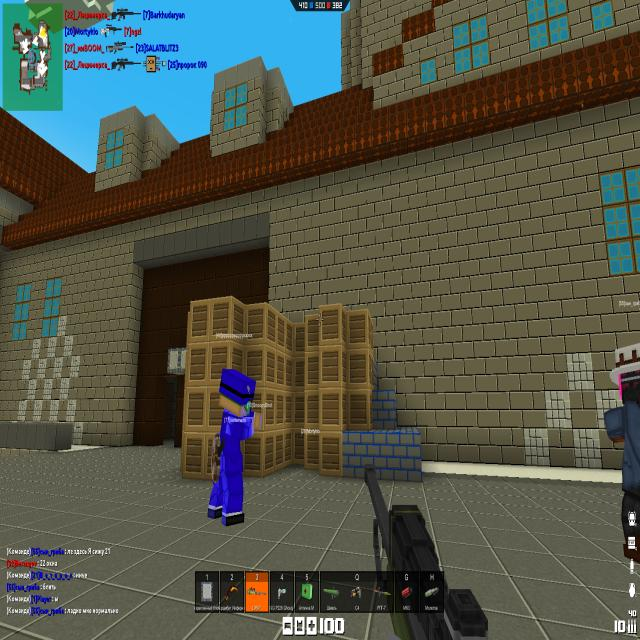player: (602, 352, 639, 599), (209, 367, 259, 527)
